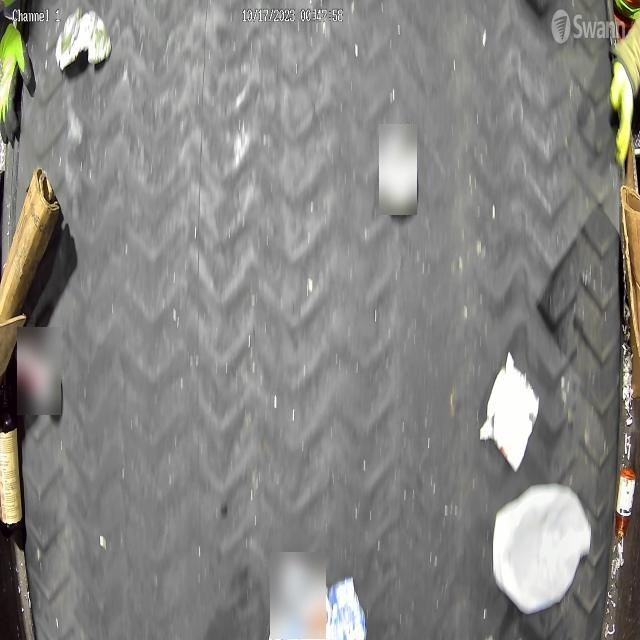milk_jug: (492, 479, 592, 617)
